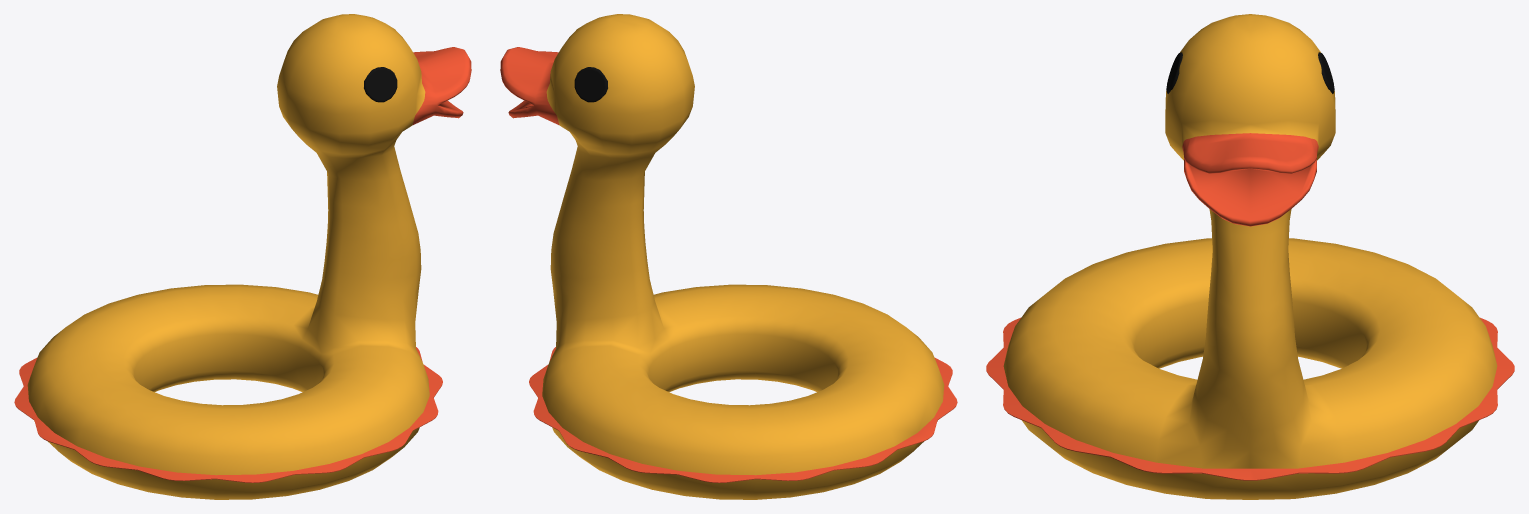
The model's file is SwimmingRing04.fbx.
The picture shows the model from 3 angles, left to right: view 1: azimuth 30°, elevation 25°; view 2: azimuth 150°, elevation 25°; view 3: azimuth 270°, elevation 25°; orthographic projection. The views are drawn at different scales.
Parts seen in each view (by area): view 1: SwimmingRing04; view 2: SwimmingRing04; view 3: SwimmingRing04.
Boxes of the visible parts, left/top/right/bottom form: SwimmingRing04: left=14, top=14, right=471, bottom=499; SwimmingRing04: left=500, top=14, right=957, bottom=499; SwimmingRing04: left=986, top=14, right=1514, bottom=499.
Size of the model in its own units: 68.17 by 58.32 by 60.
